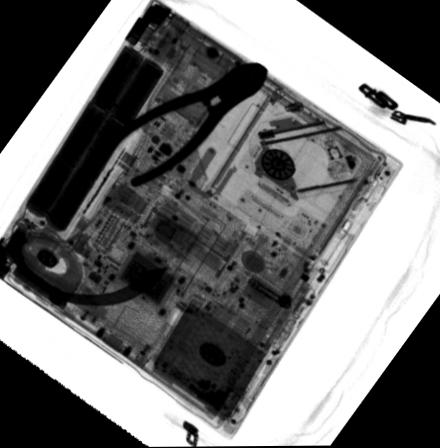Pliers: (102, 60, 268, 189)
